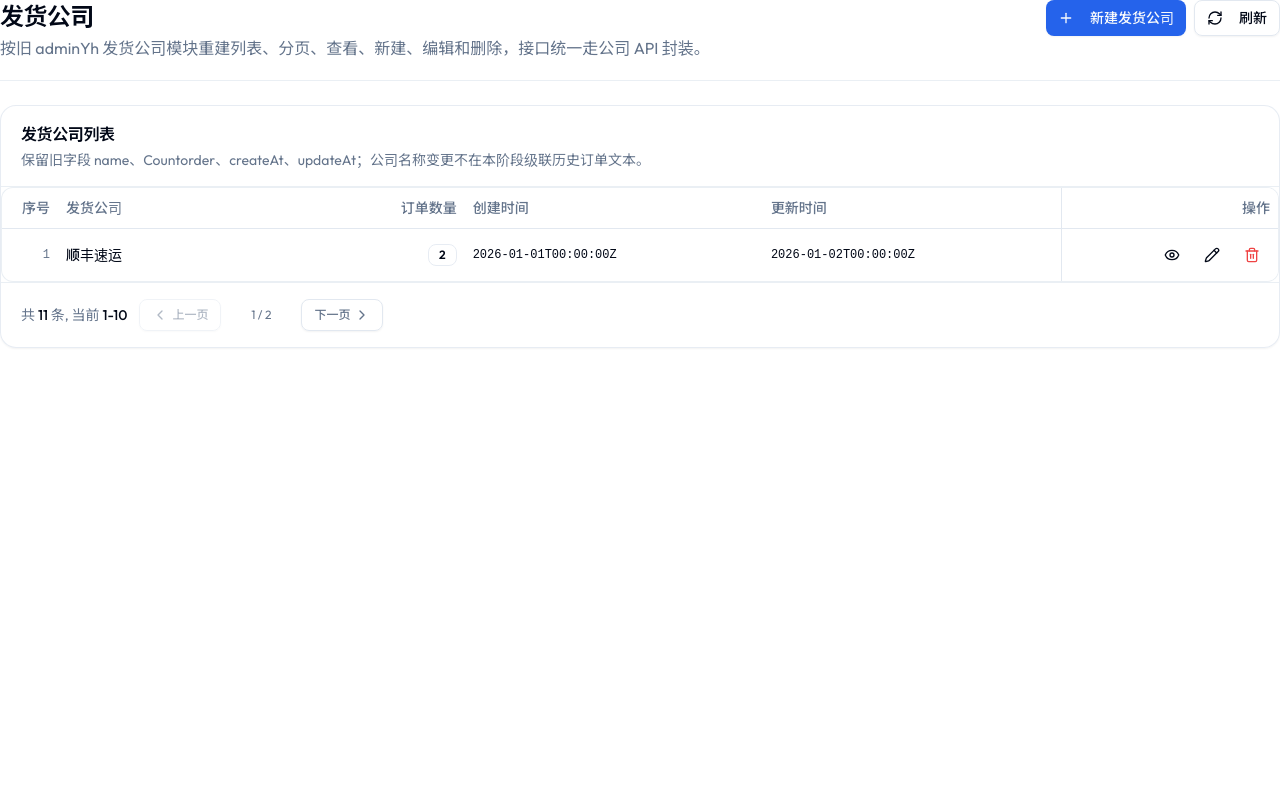
Test case: CompaniesList › loads detail for view and keeps the form readonly
Expected: the text "顺丰速运" is shown, [58, 228, 302, 280]
Click the button named "查看发货公司" at (1172, 254), box [1154, 236, 1190, 272]
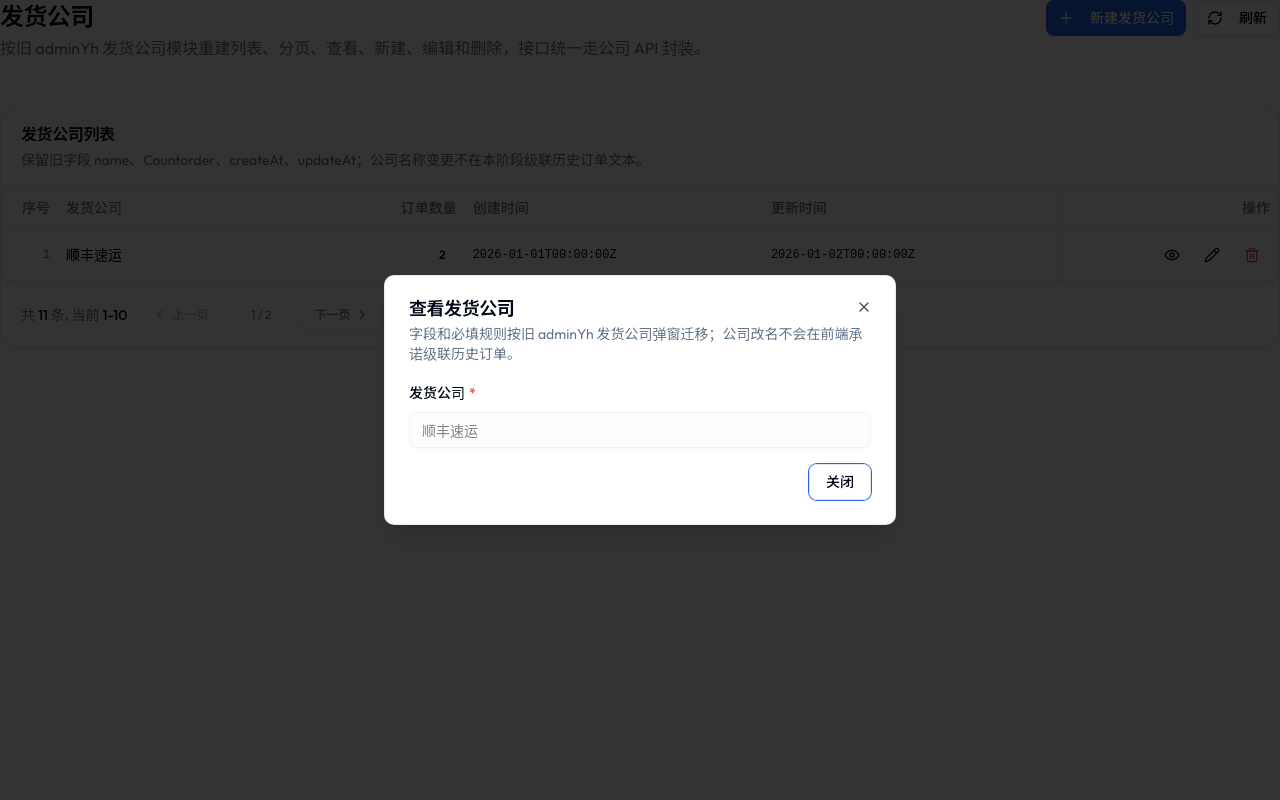
Result: the heading "查看发货公司" is shown at [409, 297, 514, 320]
Result: the field with id "company-name" is disabled at [409, 412, 871, 448]
